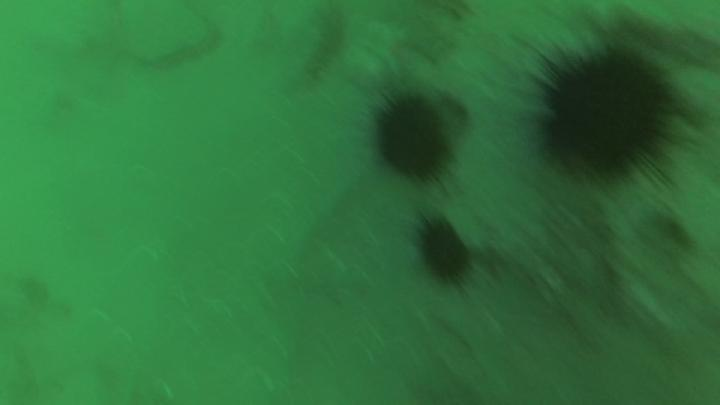echinus: (529, 40, 679, 190), (374, 88, 457, 182), (417, 218, 475, 284)
